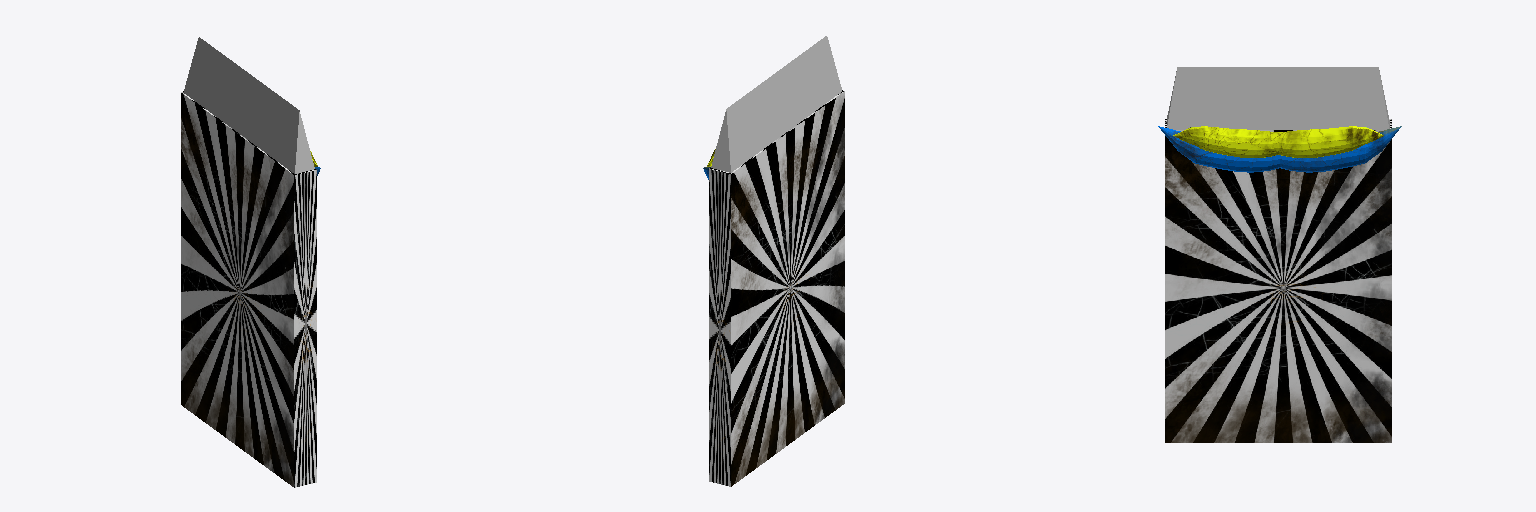
The picture shows the model from 3 angles: view 1: azimuth 30°, elevation 25°; view 2: azimuth 150°, elevation 25°; view 3: azimuth 270°, elevation 25°; orthographic projection.
Visible parts, largest first — view 1: Cube, Cube.001; view 2: Cube, Cube.001; view 3: Cube, Cube.001, Cube.005, Cube.006.
Boxes of the visible parts, box(x1,y1,x2,y2) form: Cube: box(181, 91, 316, 487); Cube.001: box(183, 37, 314, 173); Cube: box(709, 90, 844, 486); Cube.001: box(711, 36, 841, 172); Cube: box(1165, 119, 1391, 442); Cube.001: box(1167, 67, 1389, 129); Cube.005: box(1173, 126, 1383, 157); Cube.006: box(1158, 126, 1401, 172).
Size of the model in its own units: 0.6577 by 6.04 by 3.61.
4 materials, 3 textured.